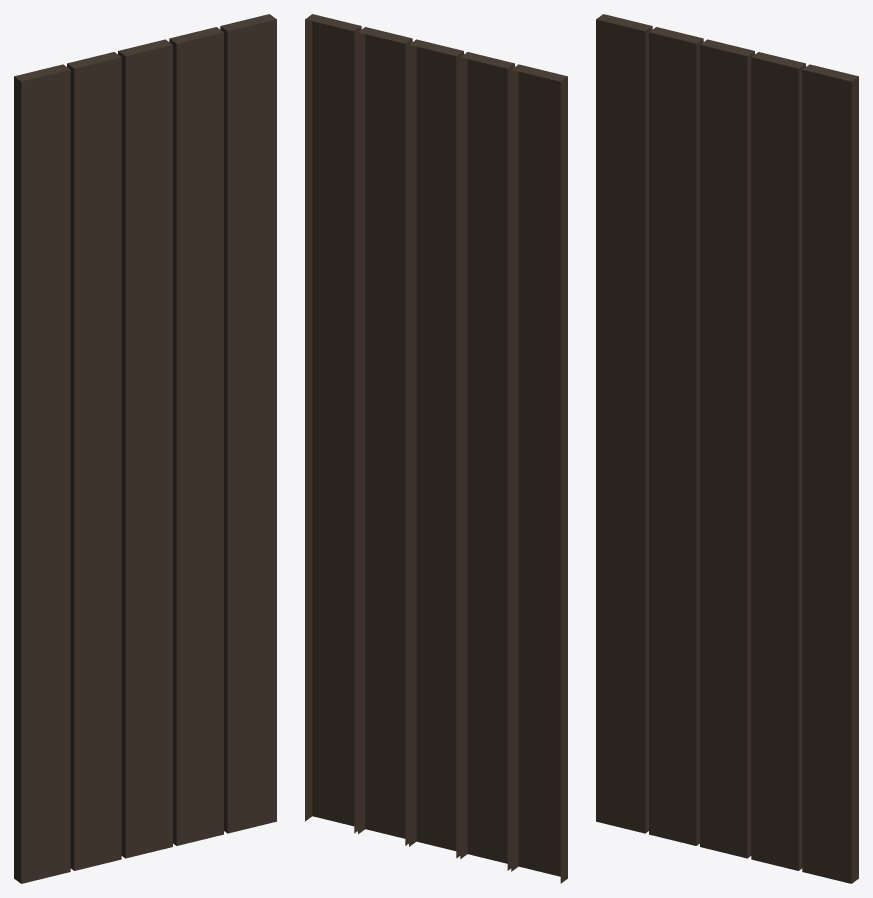
The model's file is wall_separator.fbx.
The picture shows the model from 3 angles, left to right: view 1: azimuth 30°, elevation 25°; view 2: azimuth 150°, elevation 25°; view 3: azimuth 330°, elevation 25°; orthographic projection.
Visible parts, largest first — view 1: wall_separator; view 2: wall_separator; view 3: wall_separator.
Boxes of the visible parts, box(x1,y1,x2,y2) form: wall_separator: box(14, 14, 276, 883); wall_separator: box(305, 14, 567, 883); wall_separator: box(596, 14, 858, 883).
Size of the model in its own units: 100 by 300 by 5.
